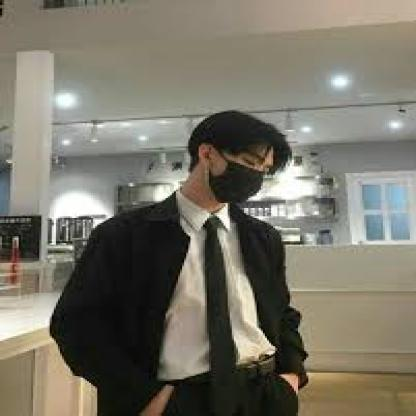person: (182, 108, 297, 215)
